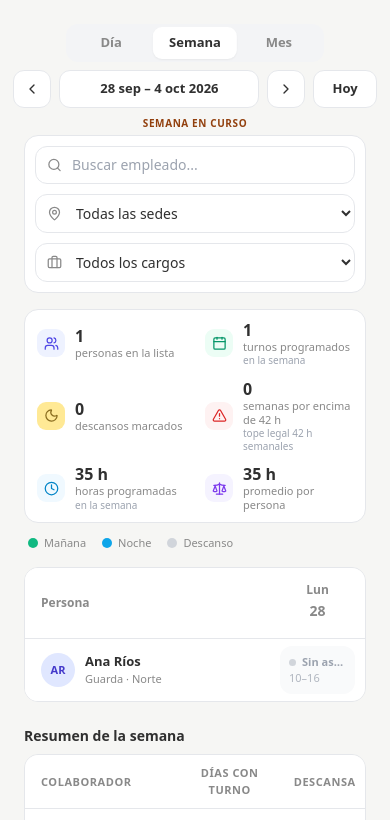
Scenario: los avisos que cuestan dinero › avisa que pintarías sobre el descanso obligatorio, y de quién es
Click the button with aria-label "marcar la semana de Ana Ríos".
click(150, 670)  # box x1=41 y1=653 x2=260 y2=687
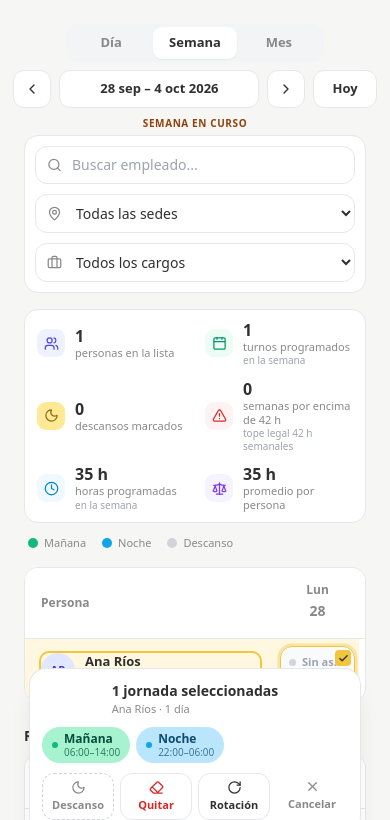
Click the button "Noche 22:00–06:00".
click(180, 745)  # box x1=136 y1=727 x2=224 y2=762
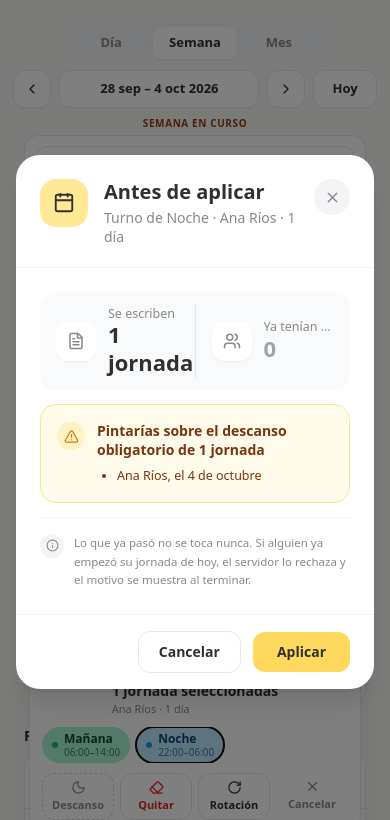
Expected: the dialog "Antes de aplicar" shows "descanso obligatorio", x1=97 y1=421 x2=287 y2=459
Expected: the dialog "Antes de aplicar" shows "Ana Ríos", x1=117 y1=467 x2=168 y2=484
